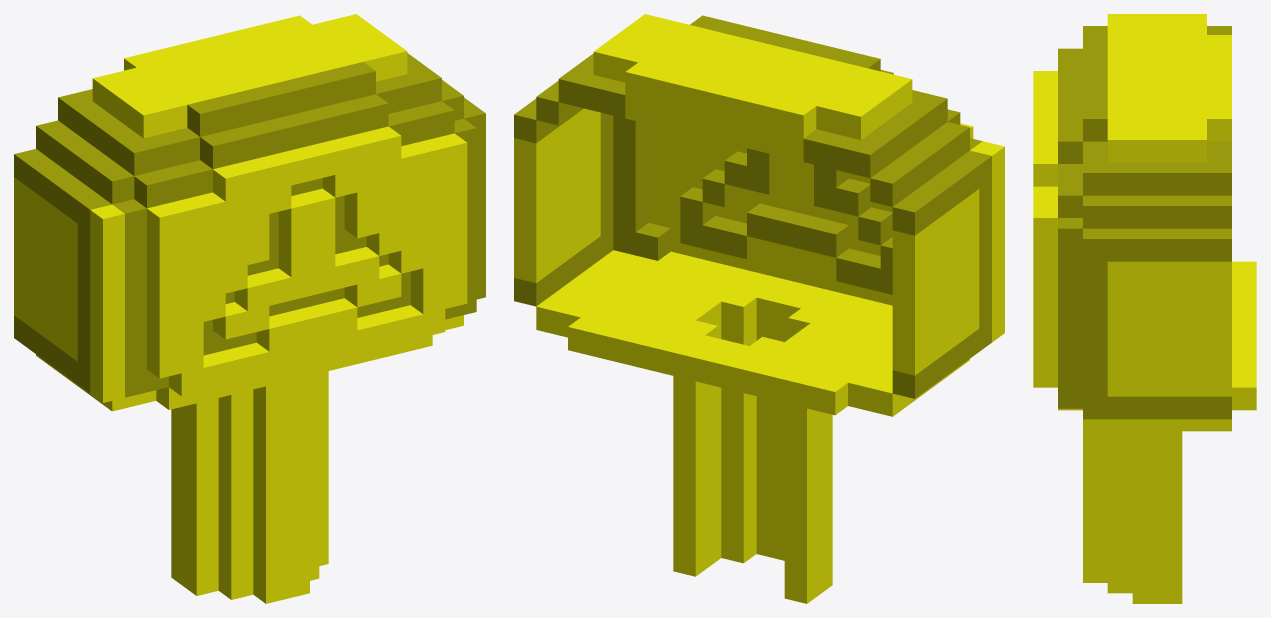
File: MejoraOdin-1.obj
3 views of the same model, side by side, from view 1: azimuth 30°, elevation 25°; view 2: azimuth 150°, elevation 25°; view 3: azimuth 270°, elevation 25° (orthographic). The views are drawn at different scales.
Size of the model in its own units: 1.8 by 2.2 by 0.9.
Materials: 1 (1 with a texture image).
